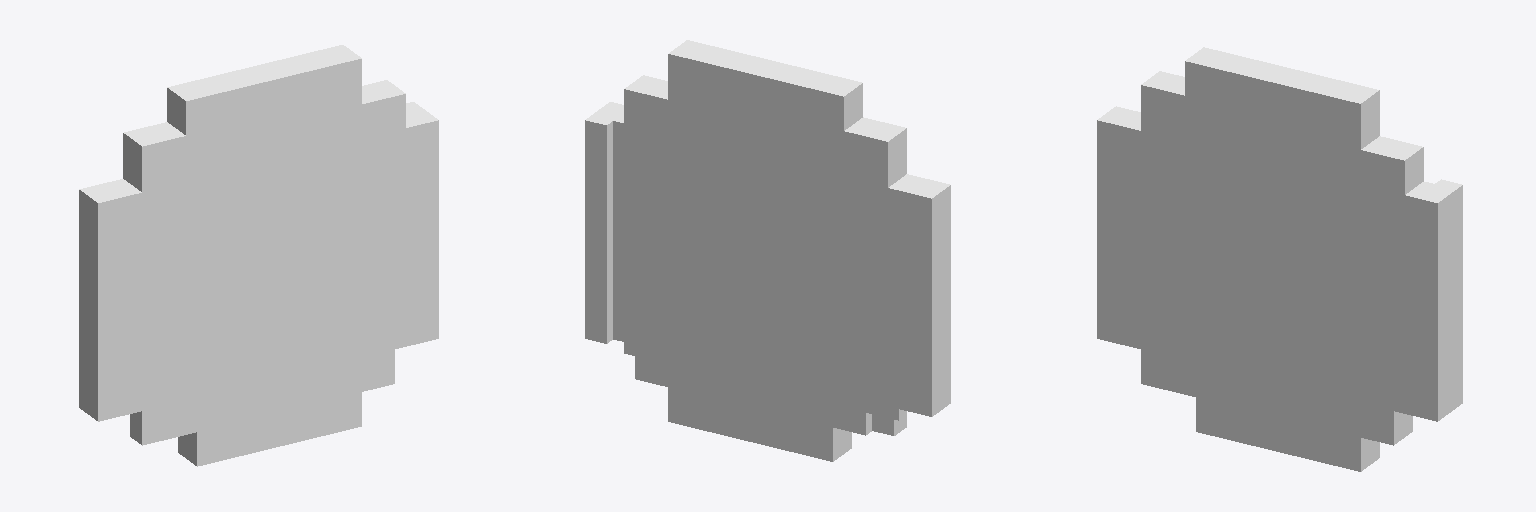
File: cars1.obj
3 renders of one model, left to right at view 1: azimuth 30°, elevation 25°; view 2: azimuth 150°, elevation 25°; view 3: azimuth 330°, elevation 25°, orthographic.
Parts seen in each view (by area): view 1: object 1; view 2: object 1; view 3: object 1.
Part boxes in pixels (left/top/right/bottom): object 1: left=79, top=45, right=438, bottom=466; object 1: left=585, top=40, right=950, bottom=461; object 1: left=1097, top=47, right=1462, bottom=471.
Bounding box in the file's own units: 3.1 × 3.2 × 0.4.